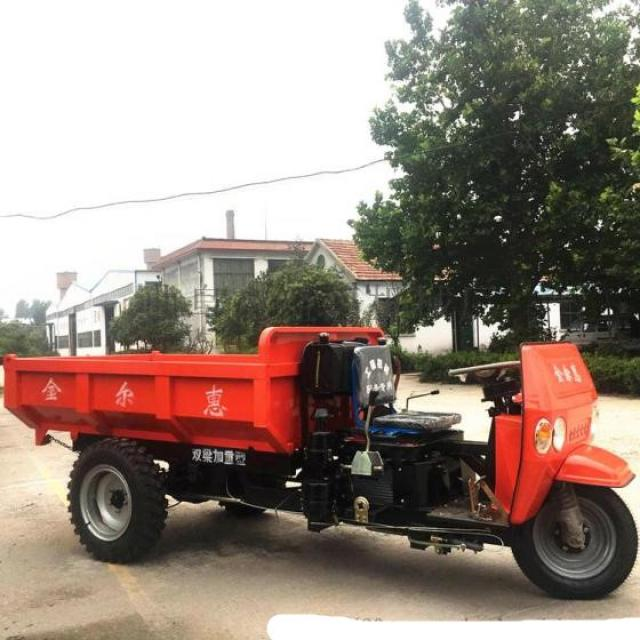tricycle: (3, 320, 634, 601)
